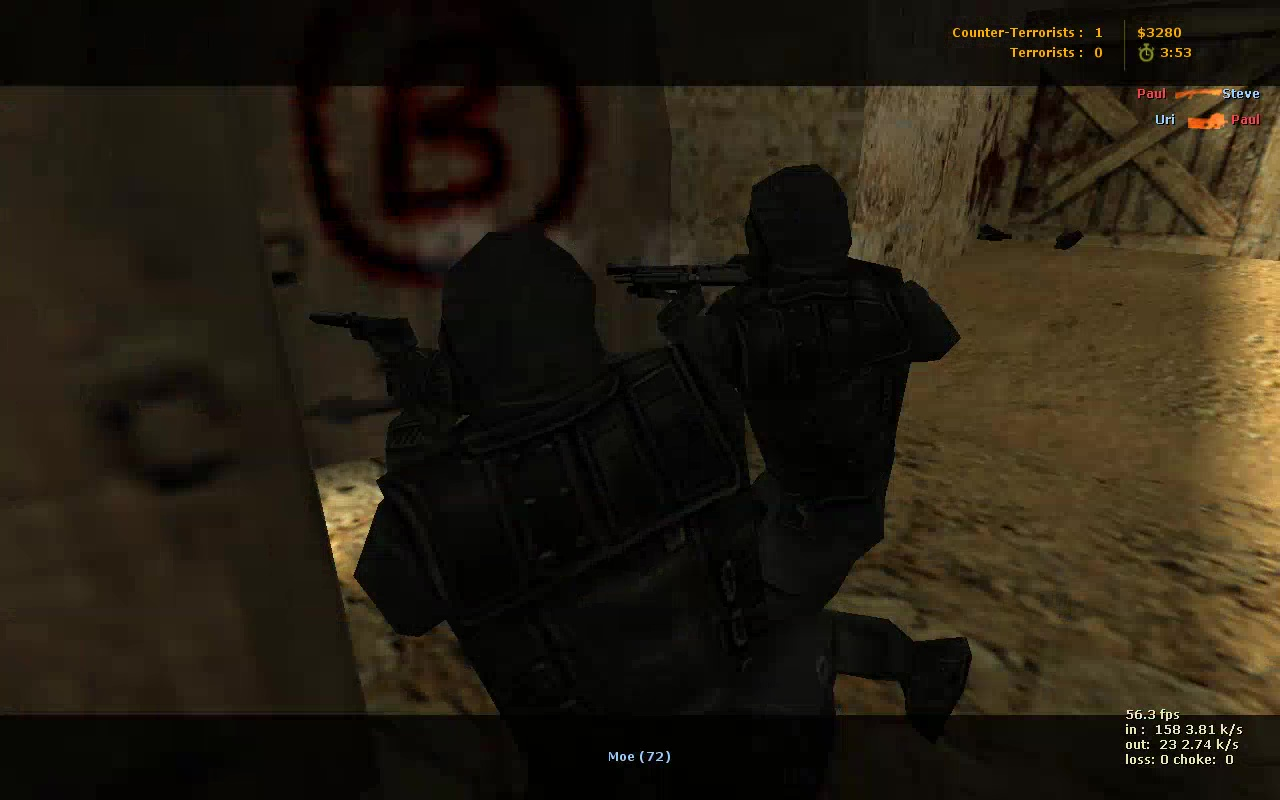ct: (316, 225, 775, 720), (656, 171, 1000, 713)
